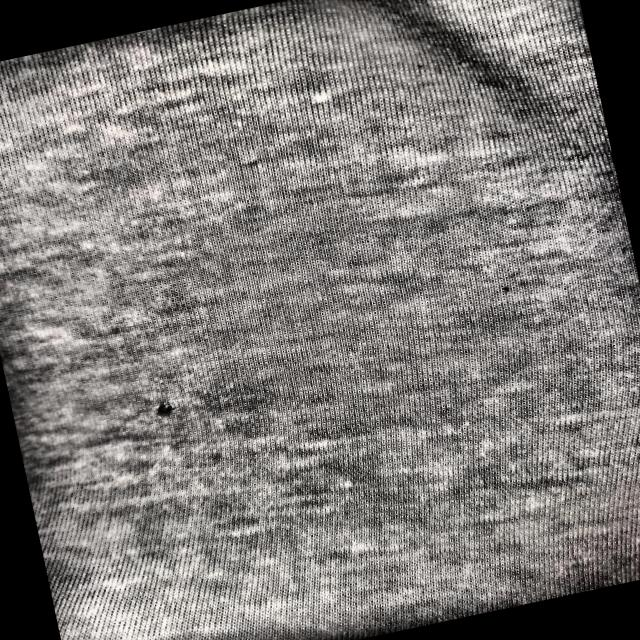cut: (148, 395, 182, 424)
